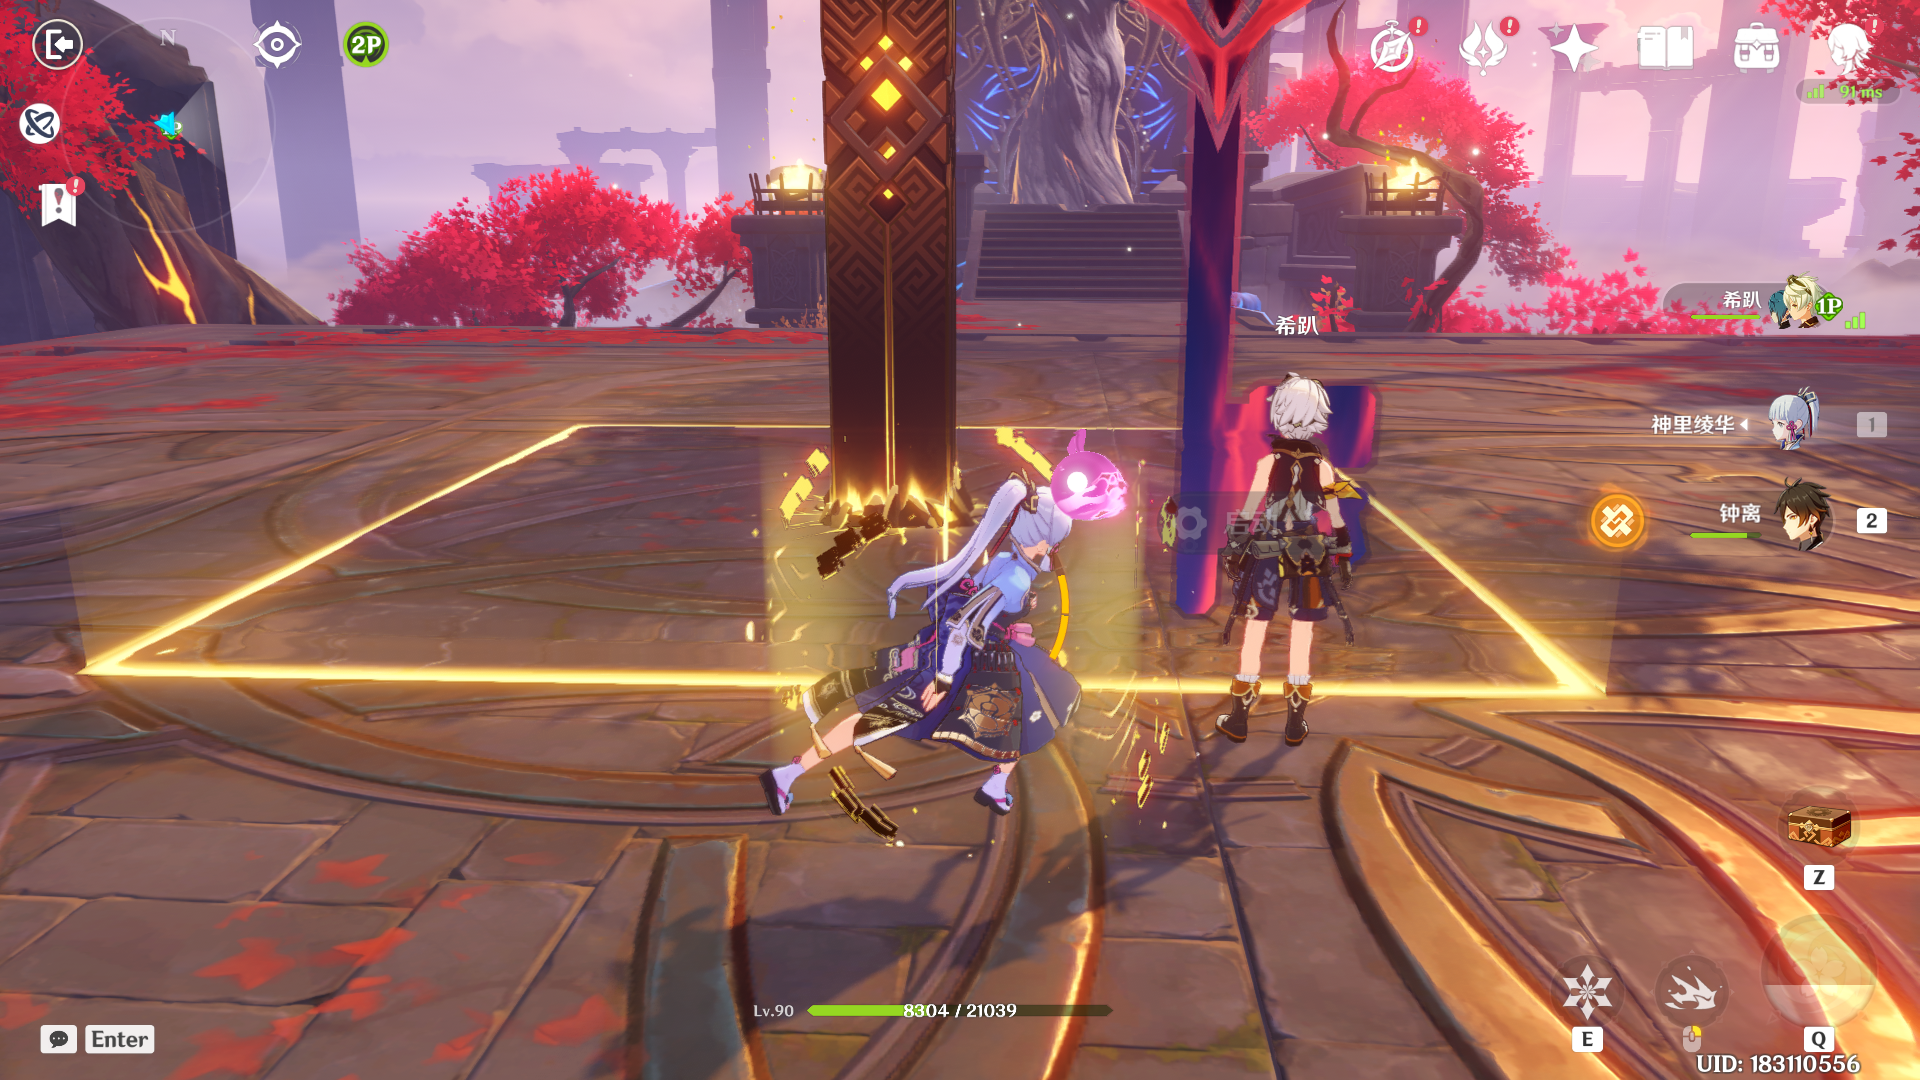character: (729, 438, 1113, 880), (1174, 359, 1418, 770)
